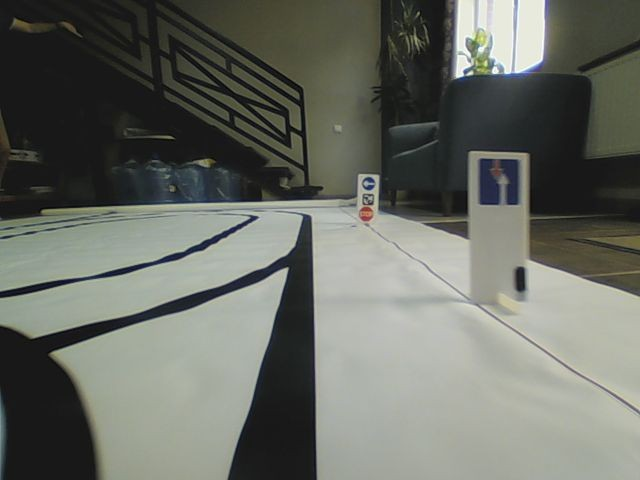Stop: (359, 207, 373, 221)
priority_movement: (480, 157, 520, 205)
